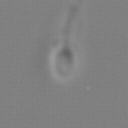normal: (47, 1, 95, 44)
